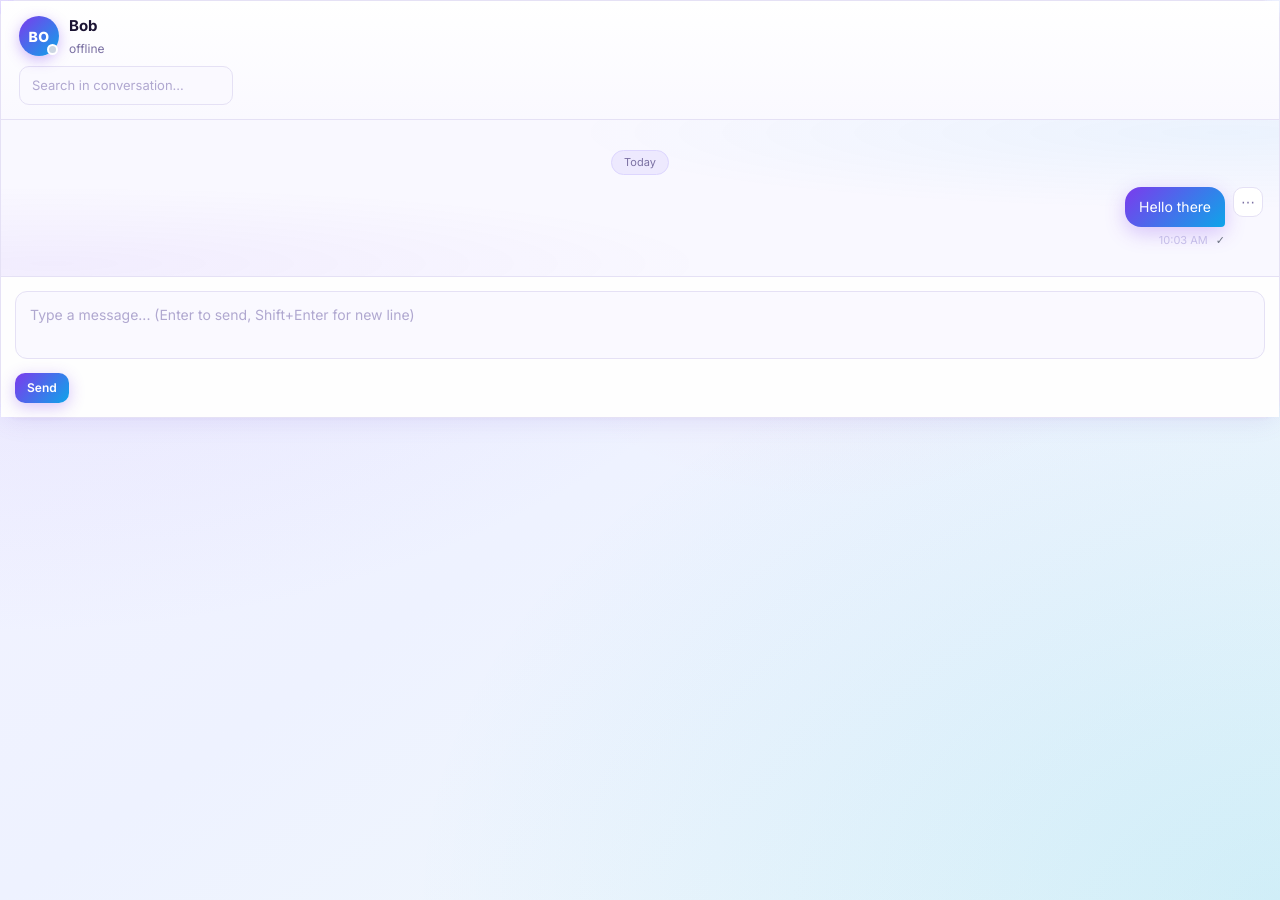
Scenario: ChatWindow Undo UX › shows not-eligible toast when undo restore returns 409
Expected: the text "Hello there" is shown, 1125,186 -> 1225,227
Click the button titled "Message options". click: (1248,202)
box: 1233,186 -> 1263,216
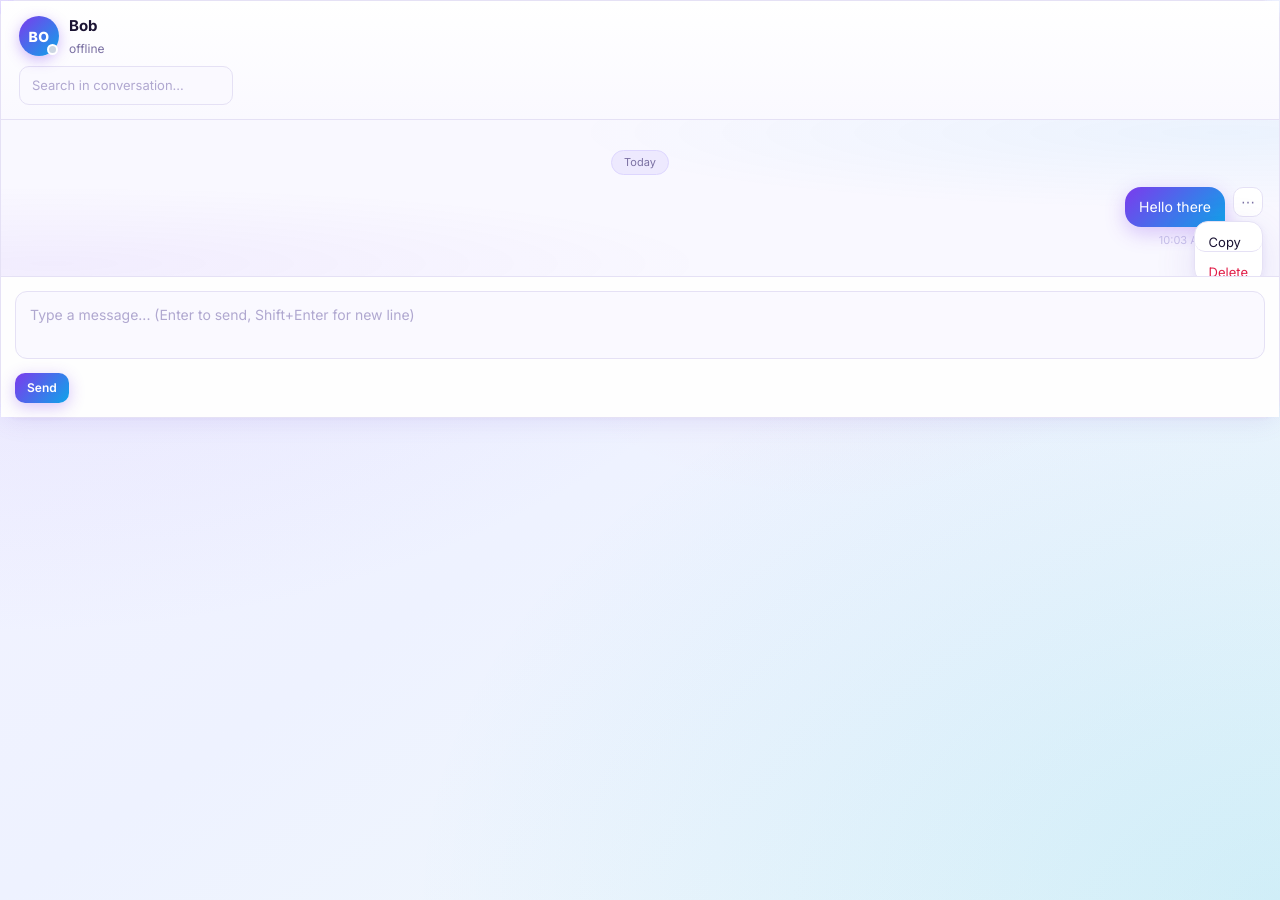
Click the button "Delete". click: (1228,266)
box: 1195,252 -> 1262,282
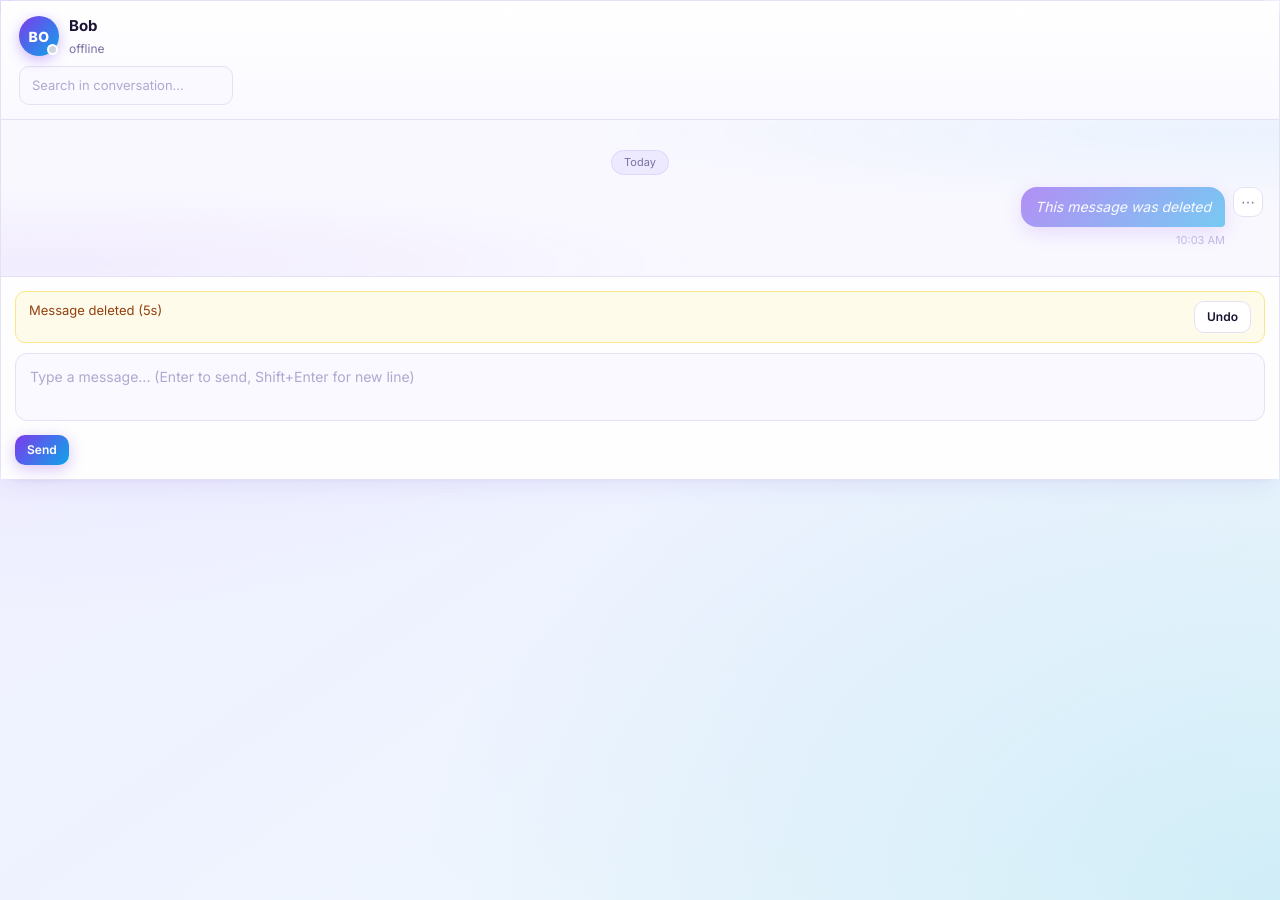
Expected: the button "Undo" is shown
Click the button "Undo". click: (1222,317)
box: 1194,301 -> 1251,333
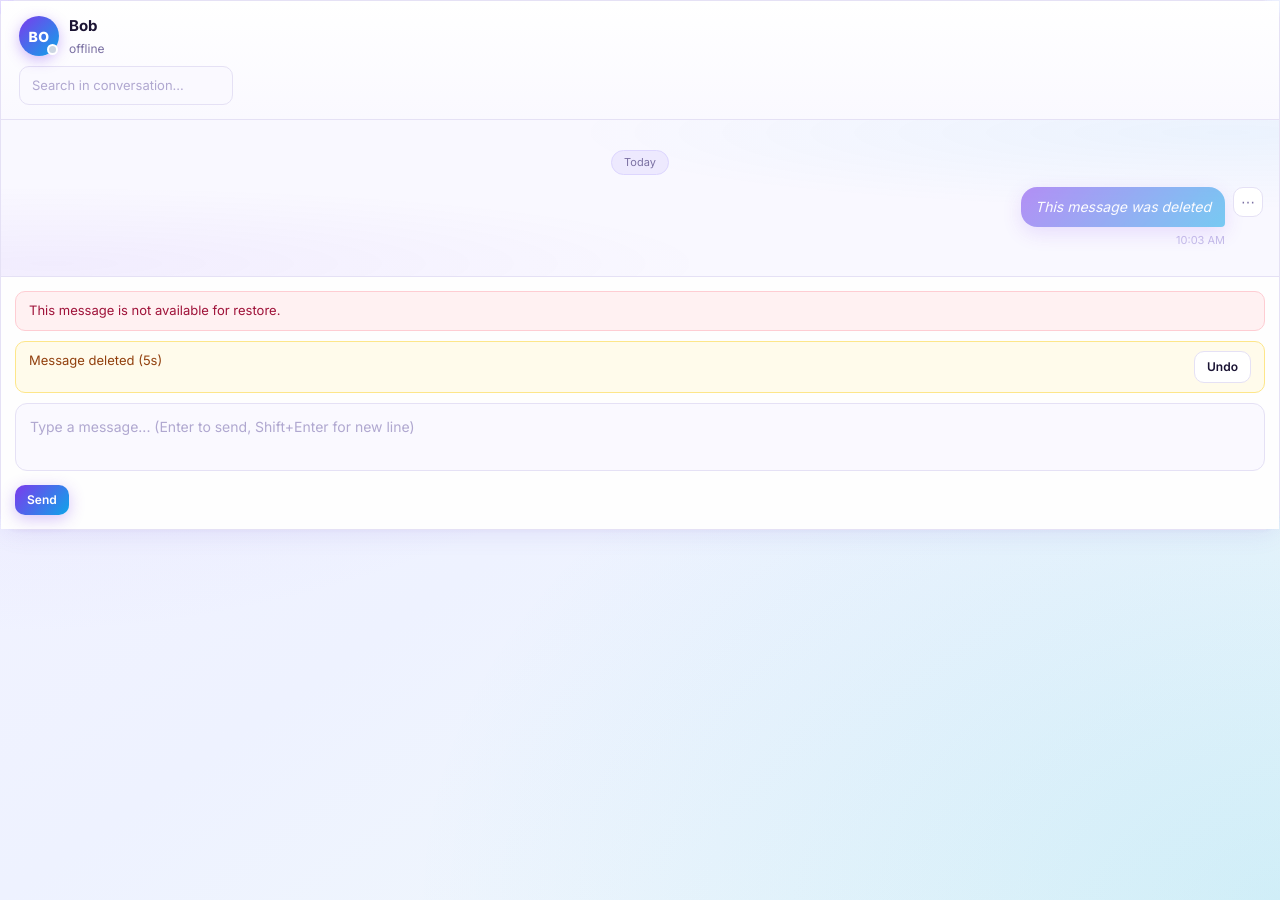
Expected: the text "This message is not available for restore." is shown, 15,291 -> 1265,331
